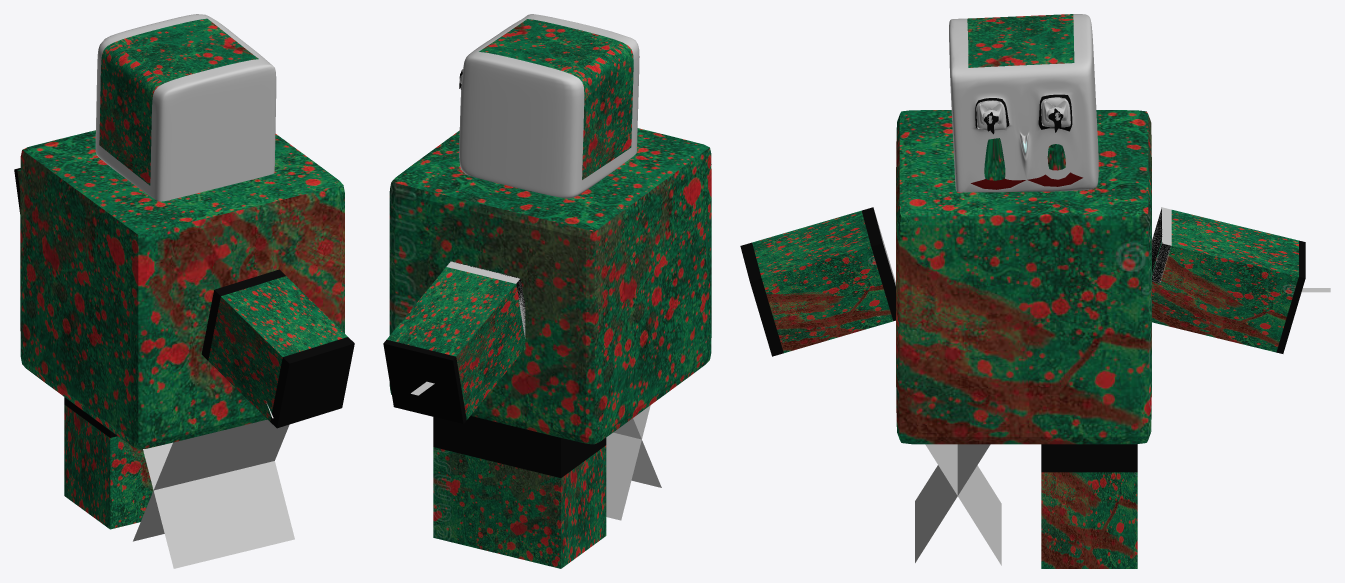
3 views of the same model, side by side, from view 1: azimuth 30°, elevation 25°; view 2: azimuth 150°, elevation 25°; view 3: azimuth 270°, elevation 25° (orthographic). The views are drawn at different scales.
Visible parts, largest first — view 1: Cube_Cube.001, Cube.001_Cube.002, Cube.005_Cube.007, RectLL1.001_Plane.011, Cube.003_Cube.004, RectRL1_Plane.009; view 2: Cube_Cube.001, Cube.001_Cube.002, Cube.003_Cube.004, Cube.004_Cube.005, RectRL1_Plane.009, RectLL1.001_Plane.011; view 3: Cube_Cube.001, Cube.001_Cube.002, Cube.004_Cube.005, Cube.005_Cube.007, Cube.003_Cube.004, RectRL1_Plane.009, RectLL1.001_Plane.011.
Part boxes in pixels (x1,y1,x2,y2): Cube_Cube.001: (20, 130, 344, 449); Cube.001_Cube.002: (95, 14, 276, 201); Cube.005_Cube.007: (201, 269, 354, 428); RectLL1.001_Plane.011: (143, 442, 294, 568); Cube.003_Cube.004: (64, 397, 153, 529); RectRL1_Plane.009: (133, 419, 289, 541); Cube_Cube.001: (389, 128, 711, 444); Cube.001_Cube.002: (459, 14, 639, 198); Cube.003_Cube.004: (433, 416, 606, 568); Cube.004_Cube.005: (383, 261, 525, 423); RectRL1_Plane.009: (606, 405, 650, 520); RectLL1.001_Plane.011: (613, 418, 661, 487); Cube_Cube.001: (896, 110, 1151, 444); Cube.001_Cube.002: (949, 14, 1098, 192); Cube.004_Cube.005: (1152, 207, 1305, 353); Cube.005_Cube.007: (740, 207, 895, 356); Cube.003_Cube.004: (1041, 444, 1137, 568); RectRL1_Plane.009: (925, 444, 1001, 565); RectLL1.001_Plane.011: (915, 444, 990, 562).
Size of what is drawn, in the model's own units: 1.46 by 3.14 by 3.36.
Materials: 14 (1 with a texture image).
